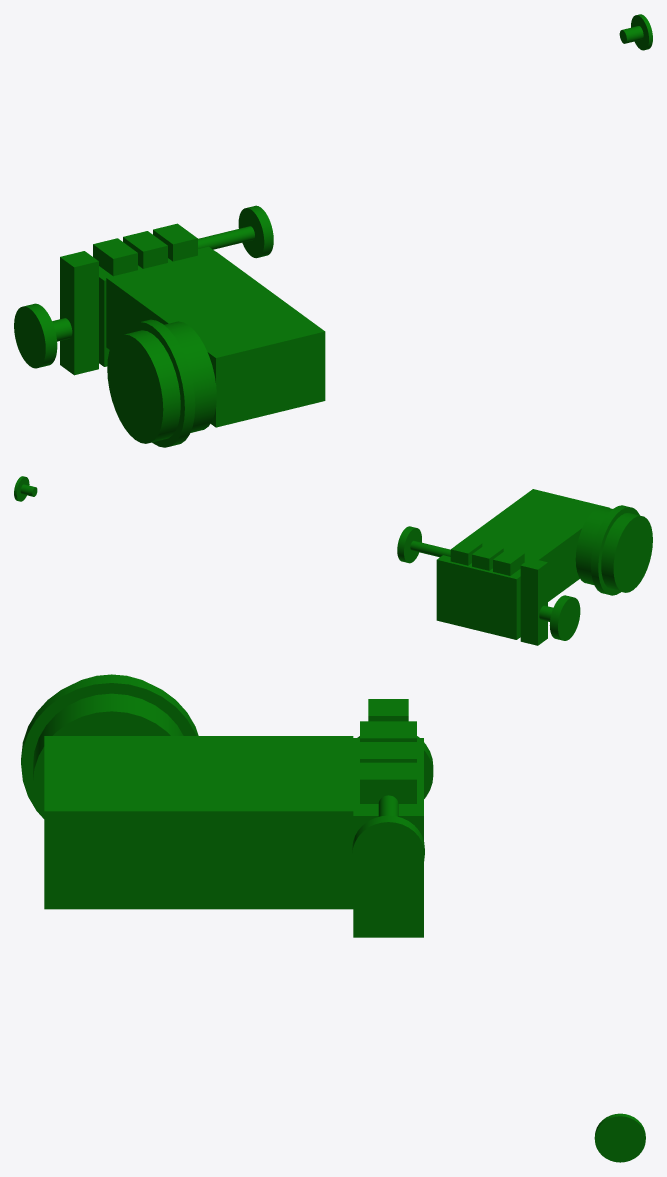
The model's file is Image-1710907725788-2281074150288_43-PB51.fbx.
The picture shows the model from 3 angles, top to bottom: view 1: azimuth 30°, elevation 25°; view 2: azimuth 150°, elevation 25°; view 3: azimuth 270°, elevation 25°; orthographic projection. The views are drawn at different scales.
Parts seen in each view (by area): view 1: BOX 5 of SUBEQUIPMENT /43-PB51/PRIM, CYLINDER 1 of SUBEQUIPMENT /43-PB51/PRIM, BOX 1 of SUBEQUIPMENT /43-PB51/PRIM, /43-PB51/N1, CYLINDER 2 of SUBEQUIPMENT /43-PB51/PRIM, /43-PB51/N2, BOX 2 of SUBEQUIPMENT /43-PB51/PRIM, BOX 4 of SUBEQUIPMENT /43-PB51/PRIM, BOX 3 of SUBEQUIPMENT /43-PB51/PRIM, BOX 6 of SUBEQUIPMENT /43-PB51/PRIM, /43-PB51/N3; view 2: BOX 5 of SUBEQUIPMENT /43-PB51/PRIM, BOX 6 of SUBEQUIPMENT /43-PB51/PRIM, CYLINDER 1 of SUBEQUIPMENT /43-PB51/PRIM, BOX 1 of SUBEQUIPMENT /43-PB51/PRIM, /43-PB51/N1, CYLINDER 2 of SUBEQUIPMENT /43-PB51/PRIM, /43-PB51/N2, BOX 2 of SUBEQUIPMENT /43-PB51/PRIM, BOX 4 of SUBEQUIPMENT /43-PB51/PRIM, BOX 3 of SUBEQUIPMENT /43-PB51/PRIM, /43-PB51/N3; view 3: BOX 5 of SUBEQUIPMENT /43-PB51/PRIM, BOX 6 of SUBEQUIPMENT /43-PB51/PRIM, CYLINDER 1 of SUBEQUIPMENT /43-PB51/PRIM, /43-PB51/N2, CYLINDER 2 of SUBEQUIPMENT /43-PB51/PRIM, BOX 4 of SUBEQUIPMENT /43-PB51/PRIM, /43-PB51/N3, BOX 2 of SUBEQUIPMENT /43-PB51/PRIM, BOX 3 of SUBEQUIPMENT /43-PB51/PRIM, BOX 1 of SUBEQUIPMENT /43-PB51/PRIM.
Boxes of the visible parts, box(x1,y1,x2,y2) form: BOX 5 of SUBEQUIPMENT /43-PB51/PRIM: box(106, 251, 325, 427); CYLINDER 1 of SUBEQUIPMENT /43-PB51/PRIM: box(107, 321, 216, 443); BOX 1 of SUBEQUIPMENT /43-PB51/PRIM: box(60, 251, 98, 375); /43-PB51/N1: box(14, 303, 72, 368); CYLINDER 2 of SUBEQUIPMENT /43-PB51/PRIM: box(126, 319, 195, 447); /43-PB51/N2: box(198, 205, 273, 258); BOX 2 of SUBEQUIPMENT /43-PB51/PRIM: box(93, 238, 137, 276); BOX 4 of SUBEQUIPMENT /43-PB51/PRIM: box(153, 223, 197, 261); BOX 3 of SUBEQUIPMENT /43-PB51/PRIM: box(123, 231, 167, 268); BOX 6 of SUBEQUIPMENT /43-PB51/PRIM: box(99, 246, 214, 366); /43-PB51/N3: box(619, 14, 652, 50); BOX 5 of SUBEQUIPMENT /43-PB51/PRIM: box(464, 489, 609, 601); BOX 6 of SUBEQUIPMENT /43-PB51/PRIM: box(436, 555, 520, 639); CYLINDER 1 of SUBEQUIPMENT /43-PB51/PRIM: box(575, 506, 652, 592); BOX 1 of SUBEQUIPMENT /43-PB51/PRIM: box(520, 558, 547, 645); /43-PB51/N1: box(539, 595, 580, 640); CYLINDER 2 of SUBEQUIPMENT /43-PB51/PRIM: box(591, 505, 639, 595); /43-PB51/N2: box(397, 526, 450, 563); BOX 2 of SUBEQUIPMENT /43-PB51/PRIM: box(493, 549, 524, 575); BOX 4 of SUBEQUIPMENT /43-PB51/PRIM: box(450, 539, 482, 565); BOX 3 of SUBEQUIPMENT /43-PB51/PRIM: box(472, 544, 503, 570); /43-PB51/N3: box(14, 476, 37, 501); BOX 5 of SUBEQUIPMENT /43-PB51/PRIM: box(44, 736, 353, 909); BOX 6 of SUBEQUIPMENT /43-PB51/PRIM: box(353, 738, 423, 937); CYLINDER 1 of SUBEQUIPMENT /43-PB51/PRIM: box(33, 674, 183, 818); /43-PB51/N2: box(352, 795, 424, 887); CYLINDER 2 of SUBEQUIPMENT /43-PB51/PRIM: box(21, 676, 198, 818); BOX 4 of SUBEQUIPMENT /43-PB51/PRIM: box(360, 762, 416, 803); /43-PB51/N3: box(594, 1113, 645, 1162); BOX 2 of SUBEQUIPMENT /43-PB51/PRIM: box(360, 721, 416, 741); BOX 3 of SUBEQUIPMENT /43-PB51/PRIM: box(360, 742, 416, 762); BOX 1 of SUBEQUIPMENT /43-PB51/PRIM: box(368, 699, 408, 721).
Bounding box in the file's own units: 3.38 × 1.86 × 0.619.
